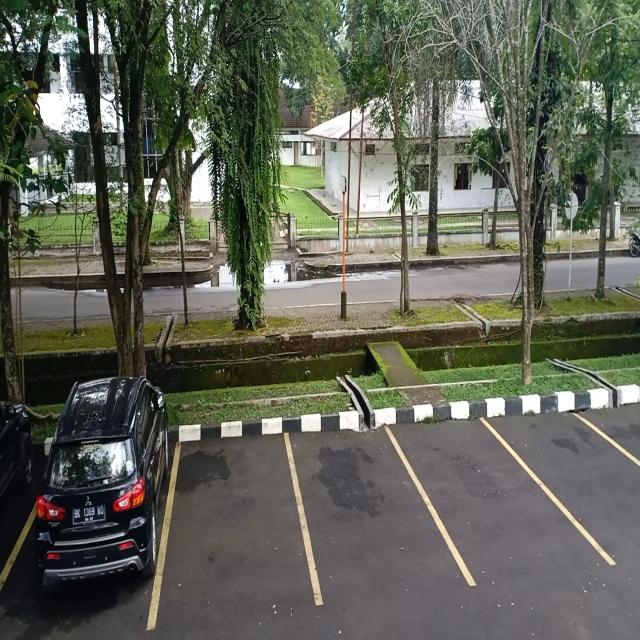empty: (414, 400, 551, 589), (164, 432, 300, 613), (297, 414, 418, 606), (547, 399, 636, 565)
occupied: (19, 423, 168, 617)
